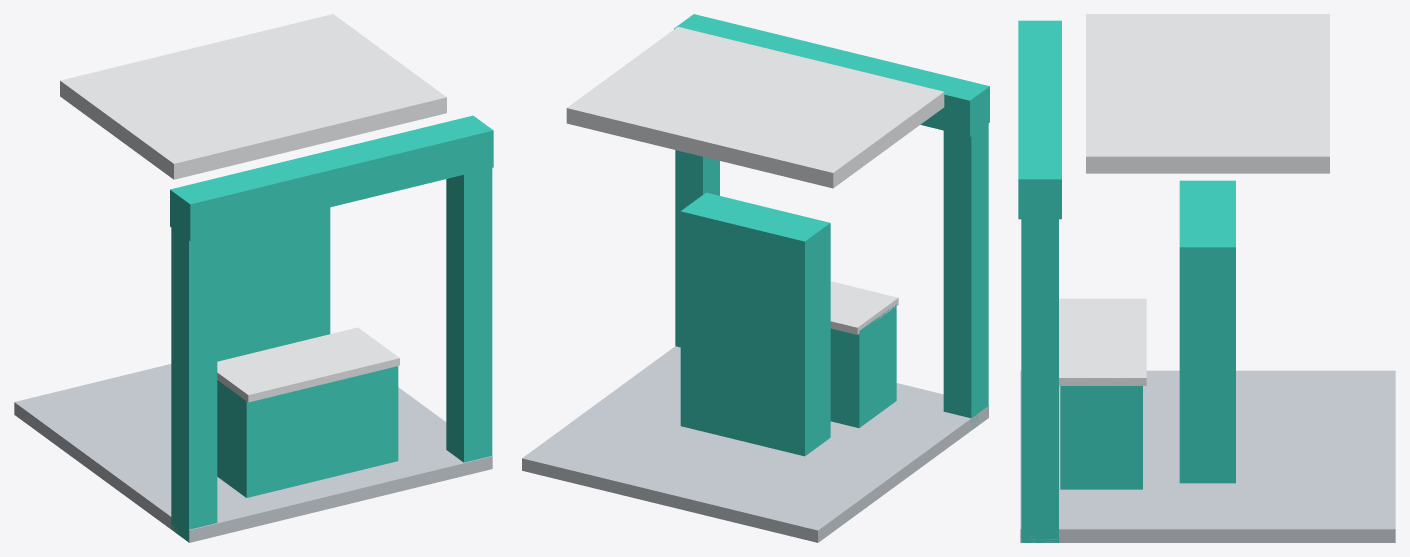
The picture shows the model from 3 angles, left to right: view 1: azimuth 30°, elevation 25°; view 2: azimuth 150°, elevation 25°; view 3: azimuth 270°, elevation 25°; orthographic projection. The views are drawn at different scales.
Visible parts, largest first — view 1: Exhibition Booth Concept; view 2: Exhibition Booth Concept; view 3: Exhibition Booth Concept.
Boxes of the visible parts, <box> form: Exhibition Booth Concept: <box>14,14,493,542</box>; Exhibition Booth Concept: <box>522,14,989,542</box>; Exhibition Booth Concept: <box>1018,14,1395,542</box>.
Size of the model in its own units: 3 by 3.34 by 3.01.
